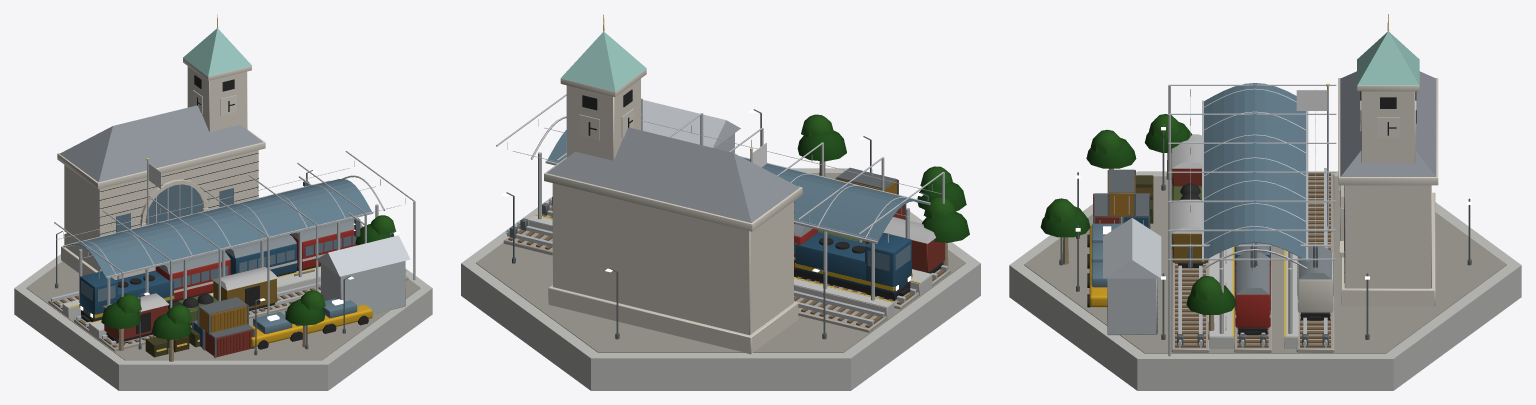
The model's file is railwayStation.glb.
The picture shows the model from 3 angles, left to right: view 1: azimuth 30°, elevation 25°; view 2: azimuth 150°, elevation 25°; view 3: azimuth 270°, elevation 25°; orthographic projection. The views are drawn at different scales.
Visible parts, largest first — view 1: glass, wall_concrete, stone, paint, roof_slate, metal, pavers, cladding, leaf, dark, steel_dark, copper (+2 smaller); view 2: stone, wall_concrete, roof_slate, pavers, paint, glass, metal, leaf, cladding, copper, steel_dark, gravel (+2 smaller); view 3: wall_concrete, pavers, glass, stone, paint, metal, cladding, leaf, roof_slate, wood, gravel, steel_dark (+4 smaller).
Part boxes in pixels (box(x1,y1,x2,y2)): glass: box(64, 178, 371, 333); wall_concrete: box(14, 254, 432, 390); stone: box(57, 58, 265, 279); paint: box(79, 90, 372, 356); roof_slate: box(60, 105, 263, 182); metal: box(50, 151, 415, 350); pavers: box(26, 261, 420, 360); cladding: box(316, 235, 410, 313); leaf: box(101, 215, 395, 339); dark: box(81, 75, 368, 349); steel_dark: box(55, 170, 396, 358); copper: box(183, 28, 251, 76); stone: box(544, 69, 802, 354); wall_concrete: box(461, 168, 980, 390); roof_slate: box(547, 127, 799, 222); pavers: box(476, 173, 965, 352); paint: box(579, 108, 944, 292); glass: box(547, 130, 930, 271); metal: box(496, 94, 948, 325); leaf: box(797, 114, 969, 242); cladding: box(643, 100, 740, 153); copper: box(561, 31, 646, 91); steel_dark: box(506, 109, 928, 339); gravel: box(503, 206, 950, 332); wall_concrete: box(1009, 171, 1521, 390); pavers: box(1024, 176, 1506, 353); glass: box(1091, 83, 1344, 310); stone: box(1338, 78, 1438, 306); paint: box(1089, 100, 1416, 327); metal: box(1099, 84, 1336, 356); cladding: box(1103, 218, 1161, 335); leaf: box(1040, 114, 1236, 314); roof_slate: box(1340, 71, 1436, 176); wood: box(1062, 153, 1330, 347); gravel: box(1171, 173, 1334, 352); steel_dark: box(1059, 124, 1471, 345).
Bounding box in the file's own units: 21.39 × 16.4 × 24.6.
